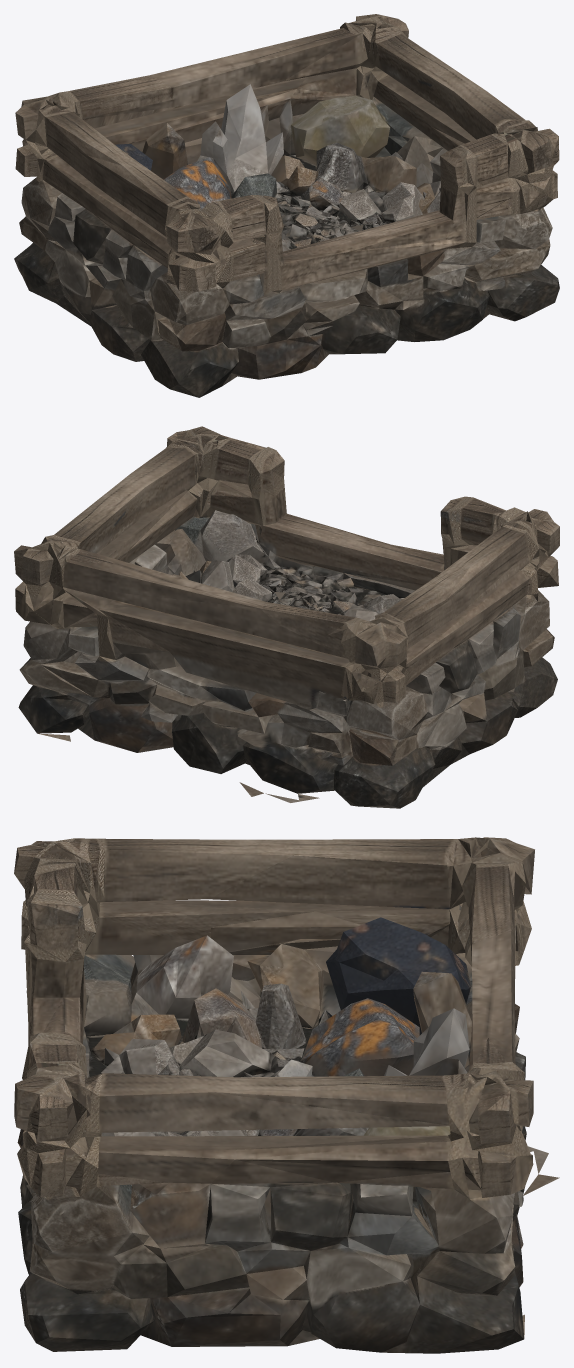
File: stone_ore_bin.fbx
The picture shows the model from 3 angles, top to bottom: view 1: azimuth 30°, elevation 25°; view 2: azimuth 150°, elevation 25°; view 3: azimuth 270°, elevation 25°; orthographic projection. The views are drawn at different scales.
Visible parts, largest first — view 1: output_unwrapped; view 2: output_unwrapped; view 3: output_unwrapped.
Boxes of the visible parts, box(x1,y1,x2,y2) form: output_unwrapped: box(14, 14, 559, 397); output_unwrapped: box(14, 426, 559, 808); output_unwrapped: box(14, 837, 559, 1353).
Size of the model in its own units: 173 by 76.51 by 142.
Materials: 1 (1 with a texture image).
